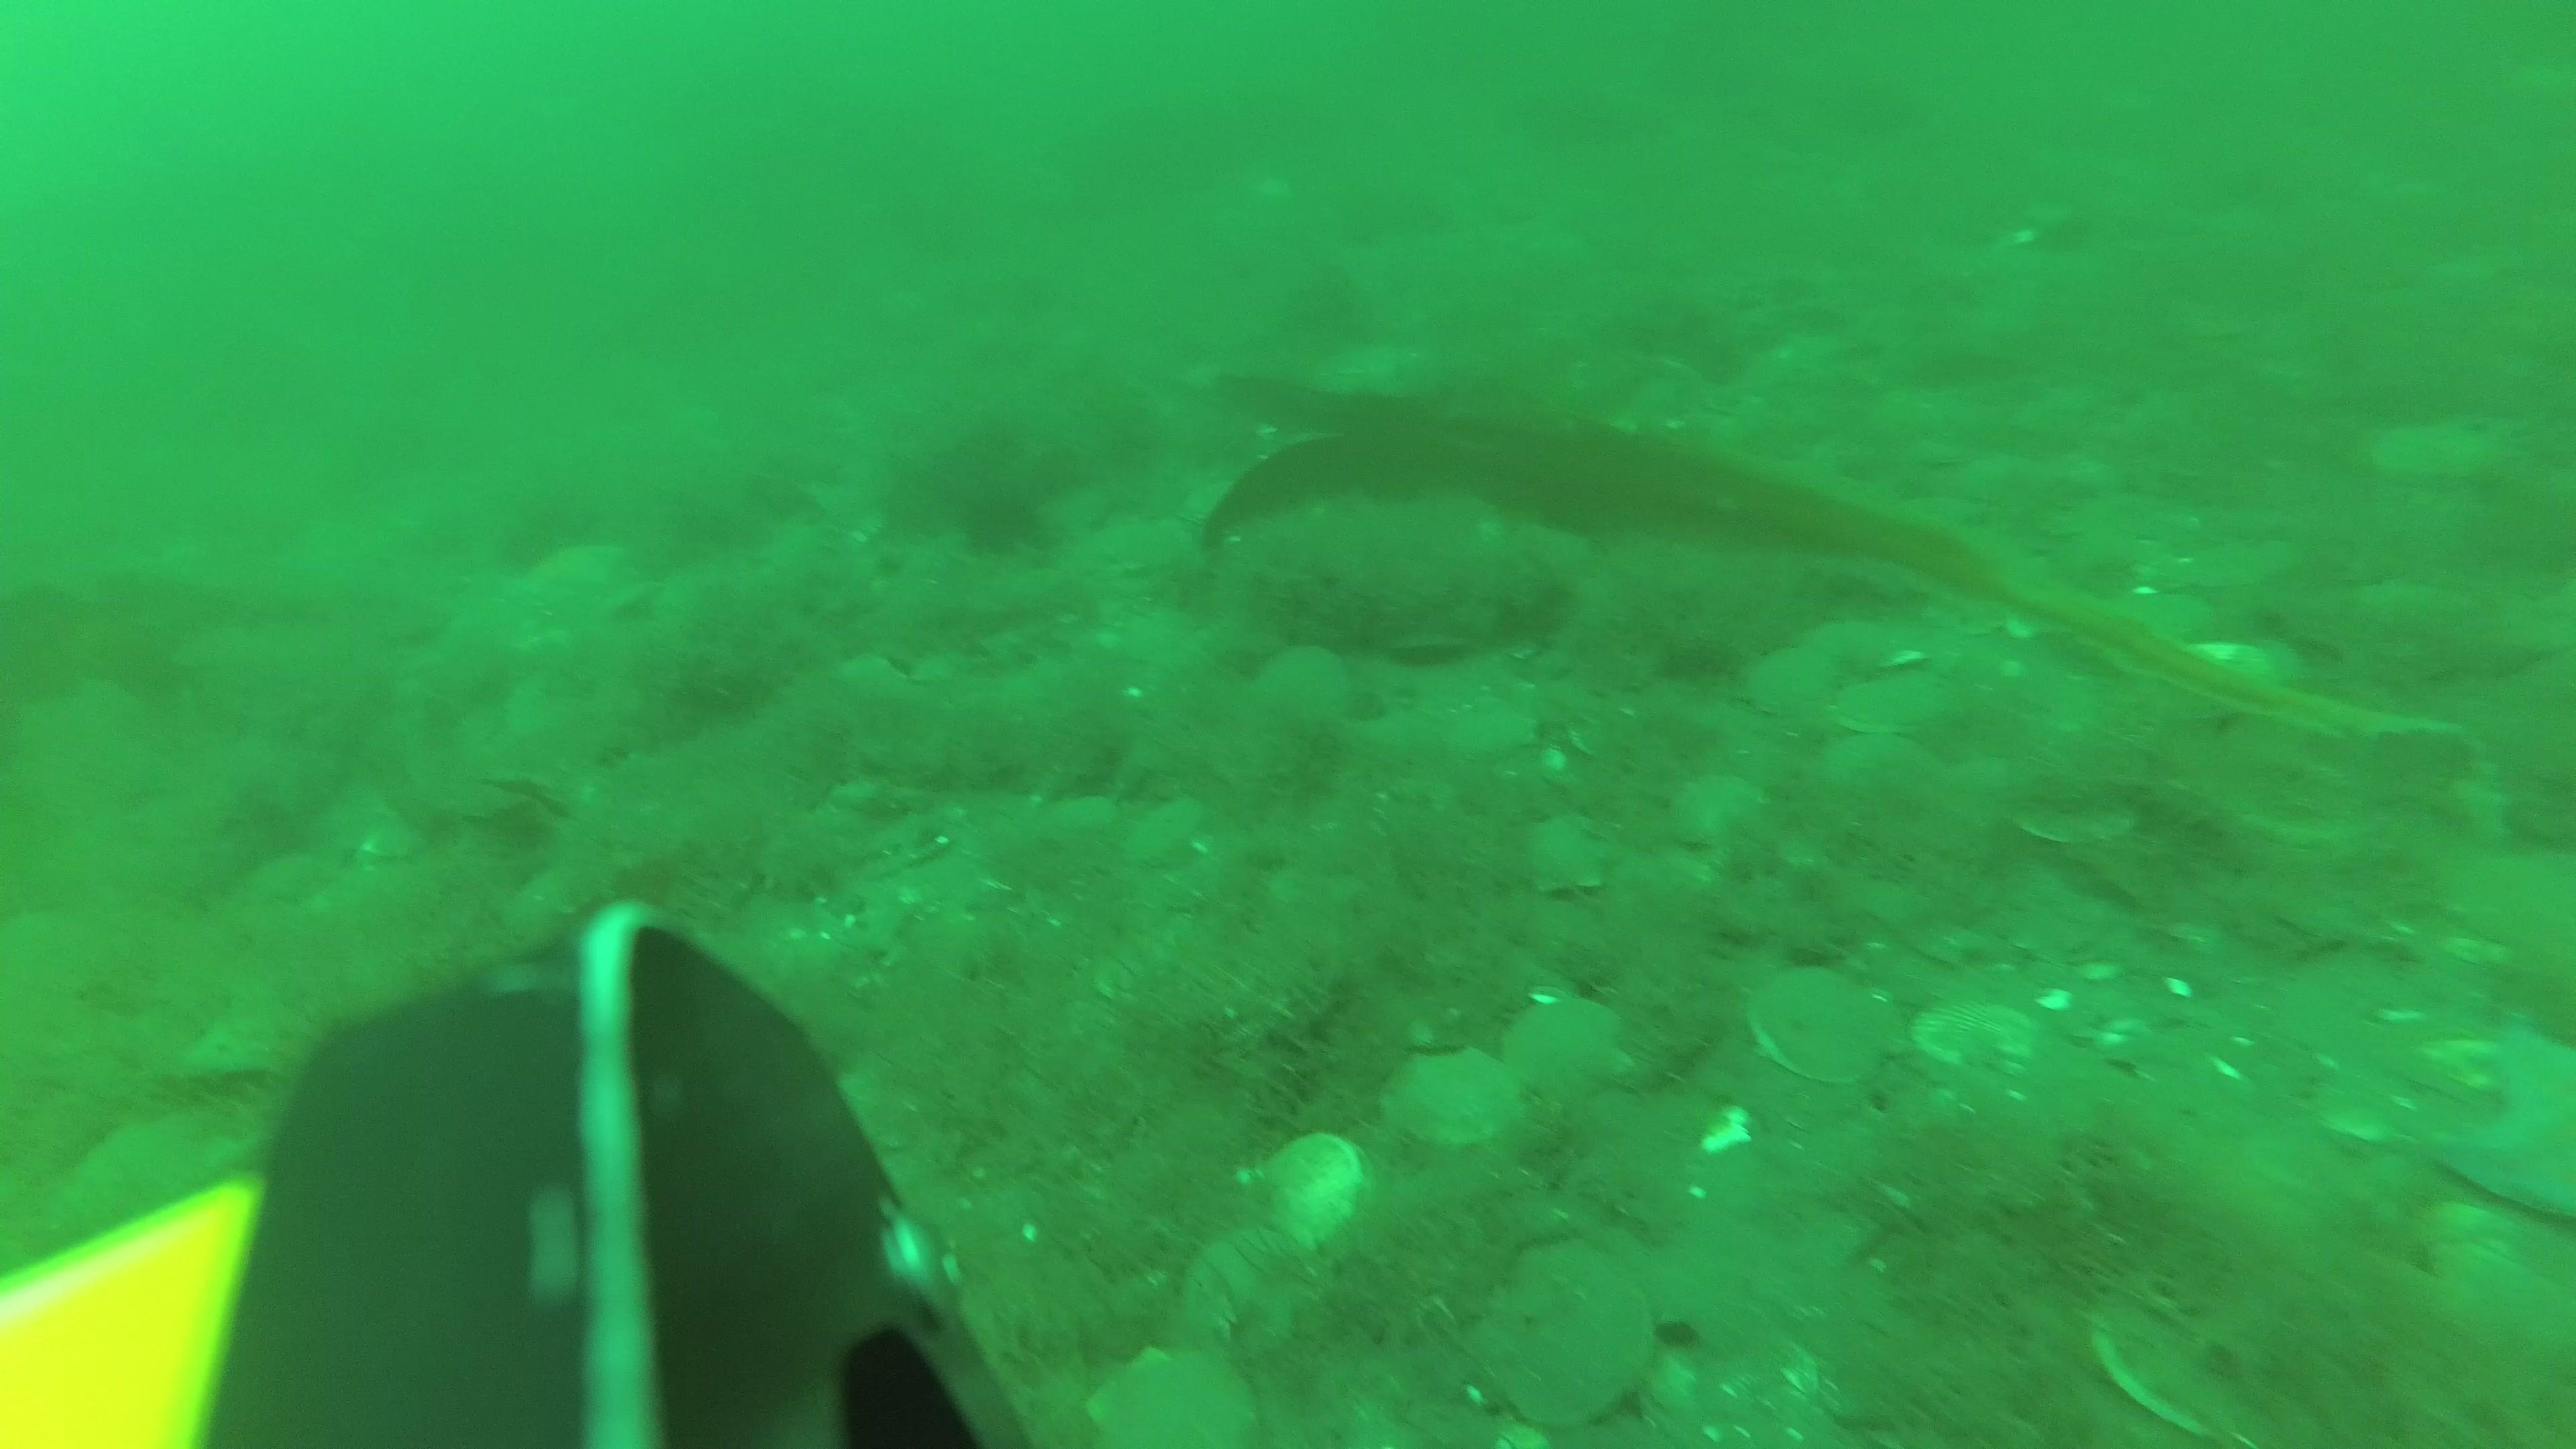echinus: (959, 488, 1049, 563)
scallop: (1468, 1274, 1660, 1431), (1635, 1315, 1824, 1449), (2084, 1293, 2242, 1444), (1739, 959, 1914, 1085), (1074, 1338, 1263, 1449), (1178, 1223, 1332, 1355), (1376, 1035, 1537, 1152), (1499, 993, 1638, 1104), (1265, 1125, 1382, 1253), (1506, 809, 1624, 906), (1913, 994, 2049, 1077), (1665, 763, 1773, 853), (1249, 644, 1352, 724), (1835, 676, 1960, 738), (1748, 644, 1840, 722), (2019, 798, 2153, 849), (1123, 791, 1210, 869), (1445, 702, 1543, 770), (1808, 617, 1890, 679), (1382, 628, 1470, 667)
starfish: (2419, 1008, 2576, 1231)
